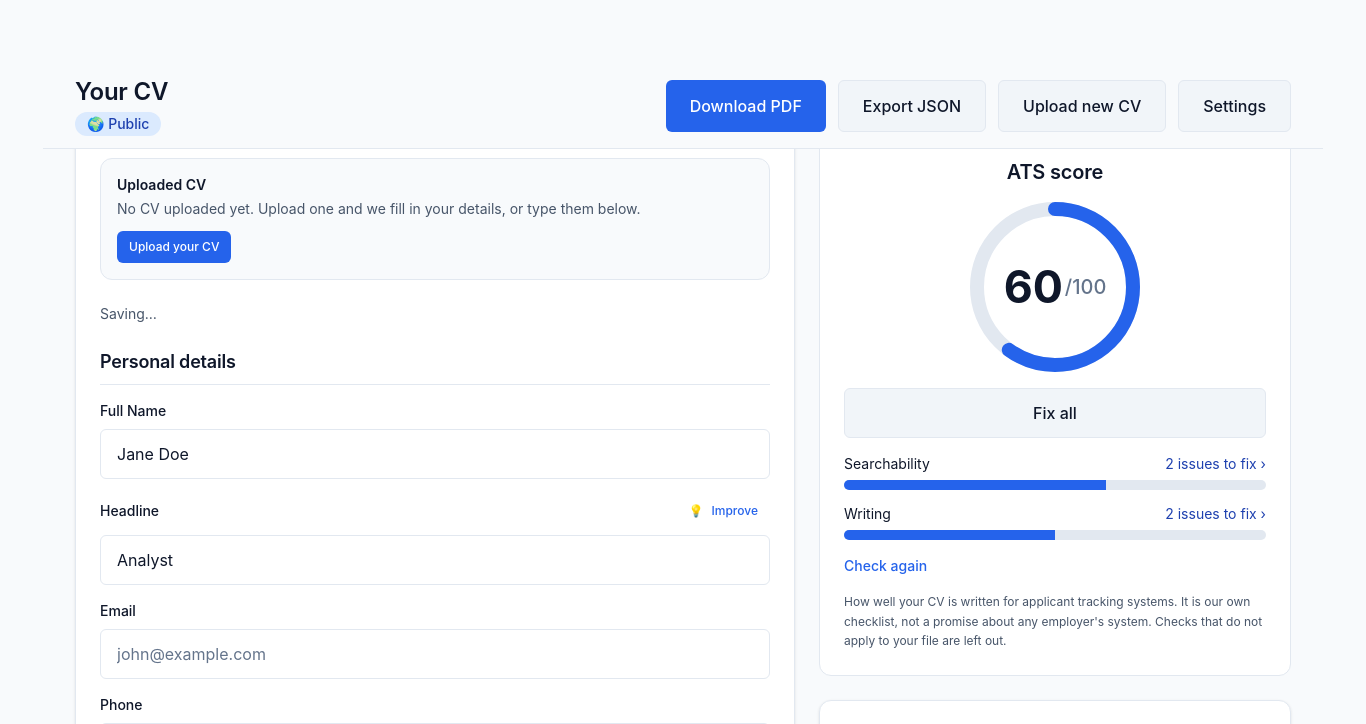
Test: Fixes offered by the ATS score panel › "Fix all" shows every date as the year only, saves it, and can be undone
Click the button "Fix all" at (1055, 413), box [844, 388, 1266, 438]
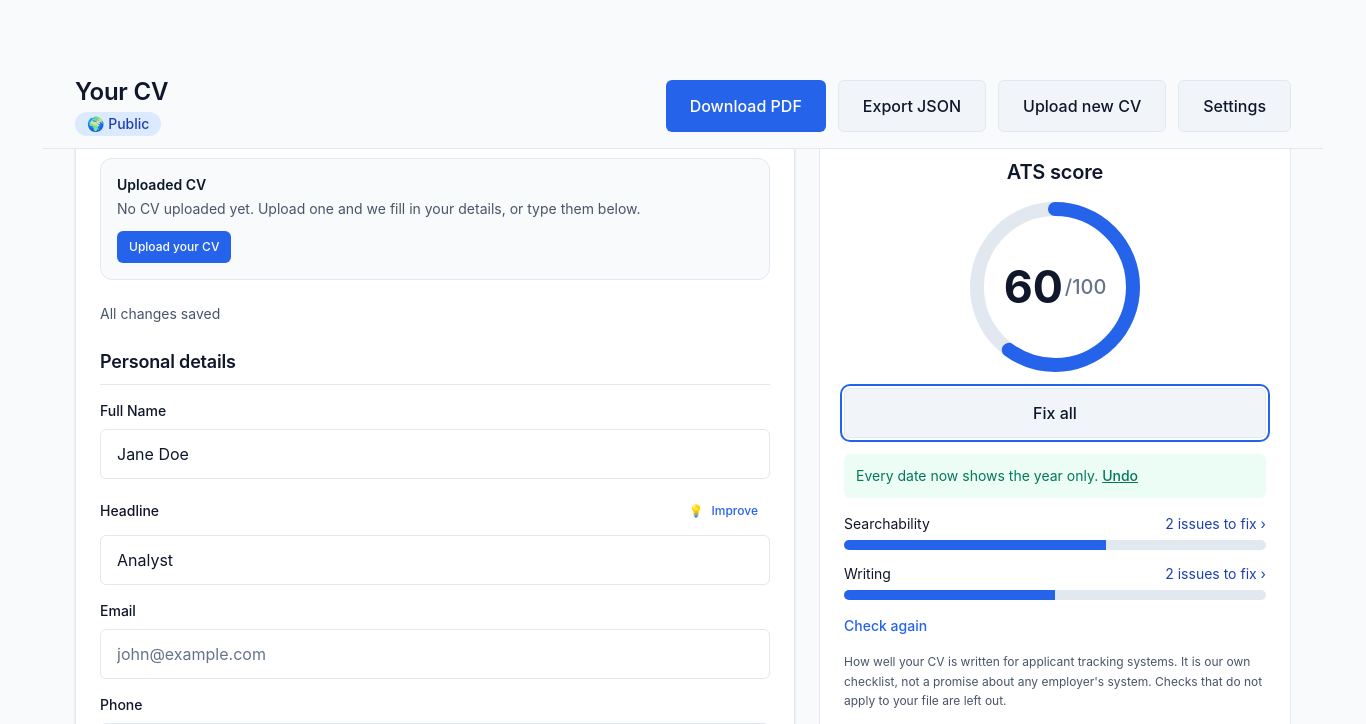
Now the text "Every date now shows the year only. Undo" is shown, box [844, 454, 1266, 498]
Click the button "Undo" at (1120, 476), box [1102, 466, 1138, 486]
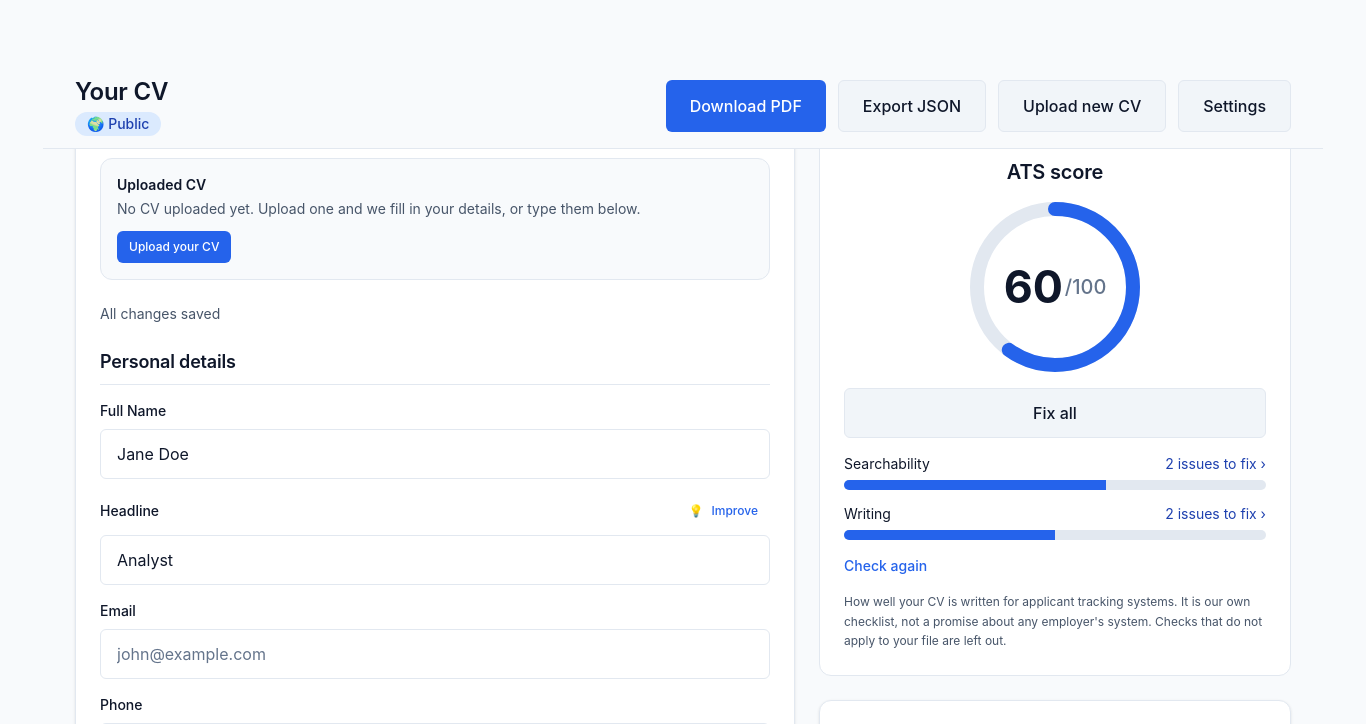
Now the text "Every date now shows the year only" is gone
